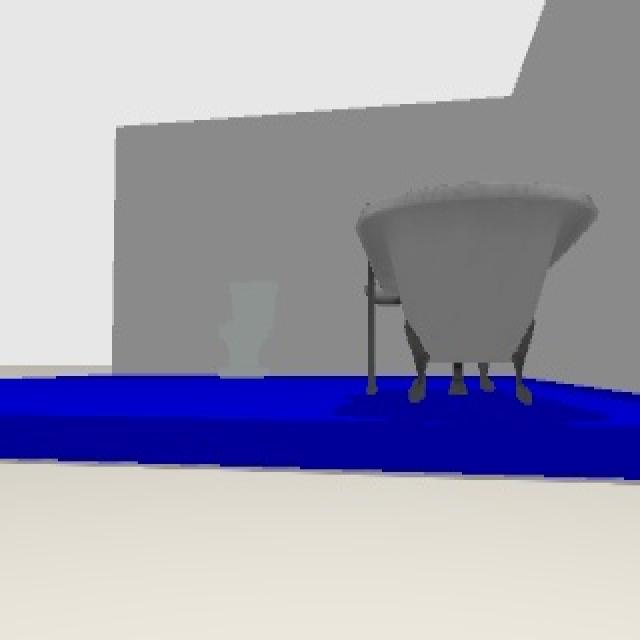bathtub: (354, 184, 600, 405)
